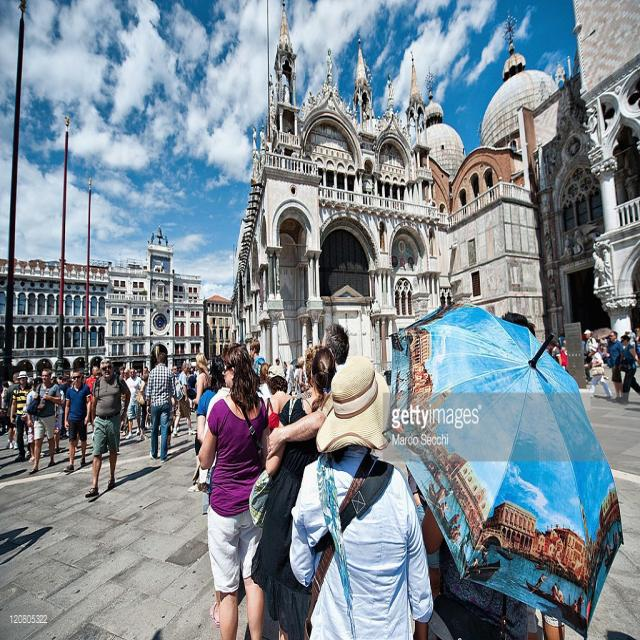body: (286, 355, 436, 639), (0, 337, 319, 445), (246, 347, 336, 640), (197, 336, 274, 639), (198, 354, 255, 631), (420, 497, 530, 640), (266, 321, 350, 461), (83, 356, 132, 500), (581, 100, 613, 301), (548, 324, 640, 388), (145, 350, 179, 464), (27, 368, 62, 476), (187, 351, 212, 486), (62, 368, 92, 475), (196, 354, 227, 446), (250, 116, 298, 170), (9, 368, 35, 464), (263, 362, 296, 434), (172, 362, 197, 438), (583, 342, 613, 401), (618, 330, 640, 406), (604, 330, 626, 404), (26, 376, 44, 463), (3, 371, 21, 451), (124, 366, 142, 441), (50, 376, 66, 455), (497, 311, 537, 338), (85, 364, 99, 426), (582, 328, 598, 382), (138, 371, 150, 442), (248, 336, 267, 377), (255, 361, 273, 403), (322, 45, 337, 94)
